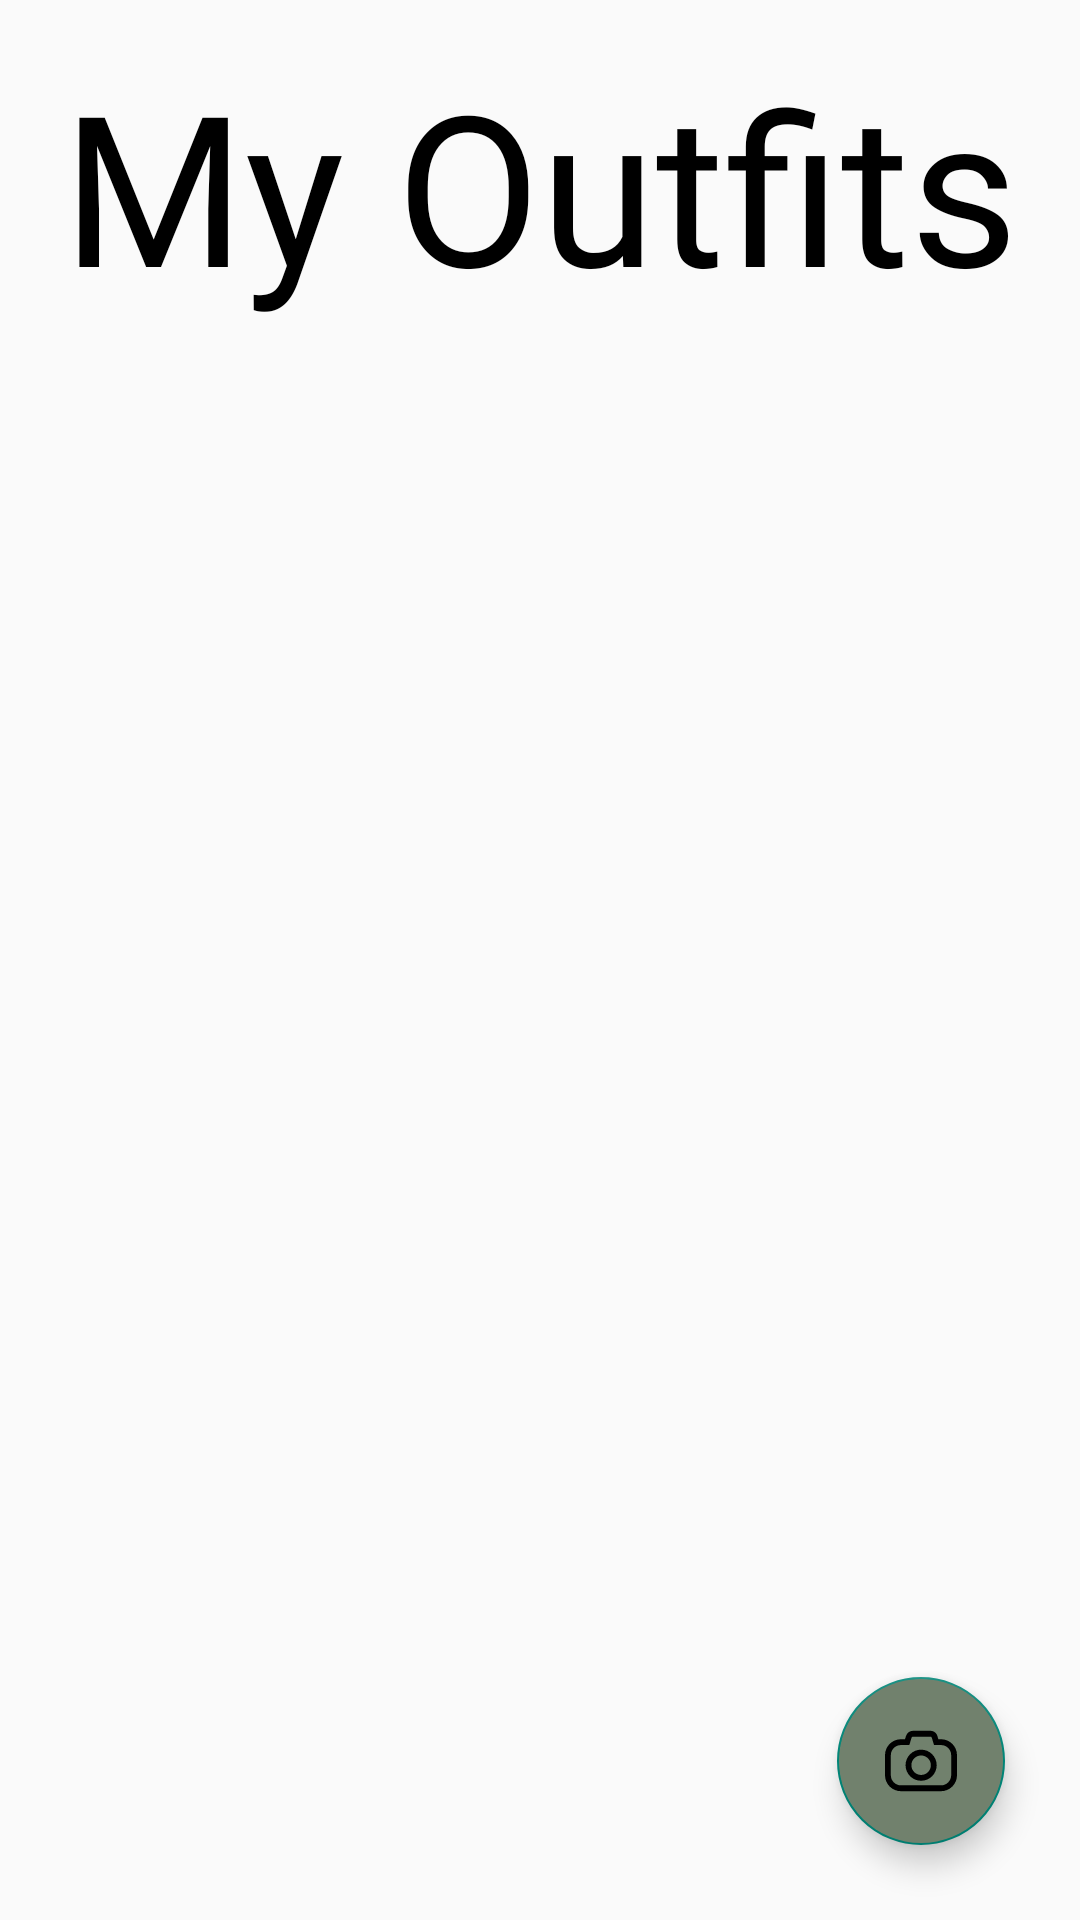

Named icons in this screenshot (1080 × 1920) and their centers, (x,y):
camera: (921,1761)
